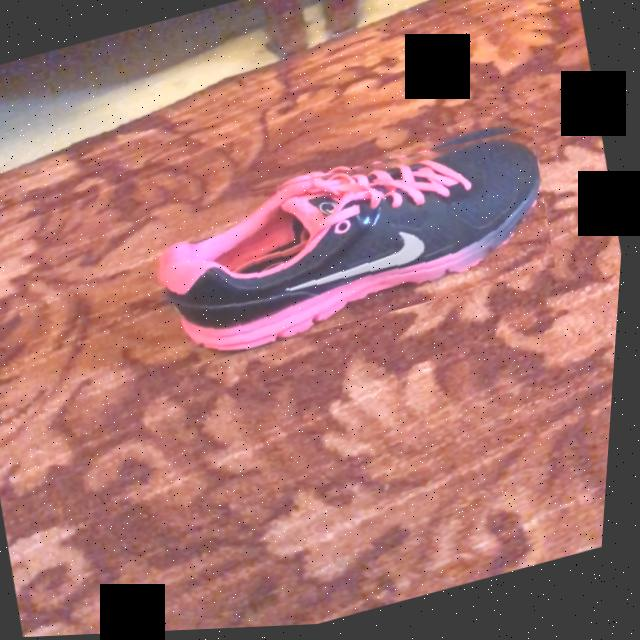shoe: (162, 142, 544, 356)
